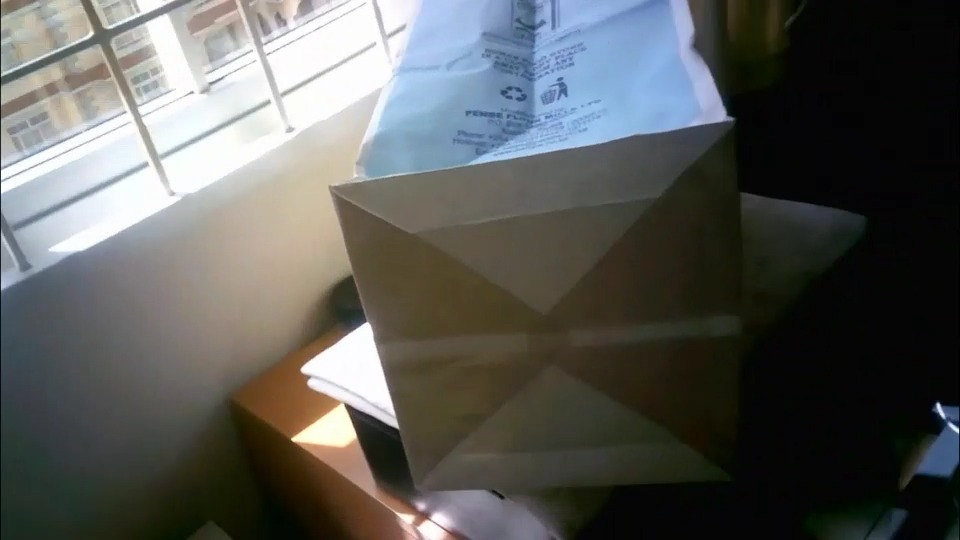wheat_flour_blue_label: (332, 0, 743, 489)
